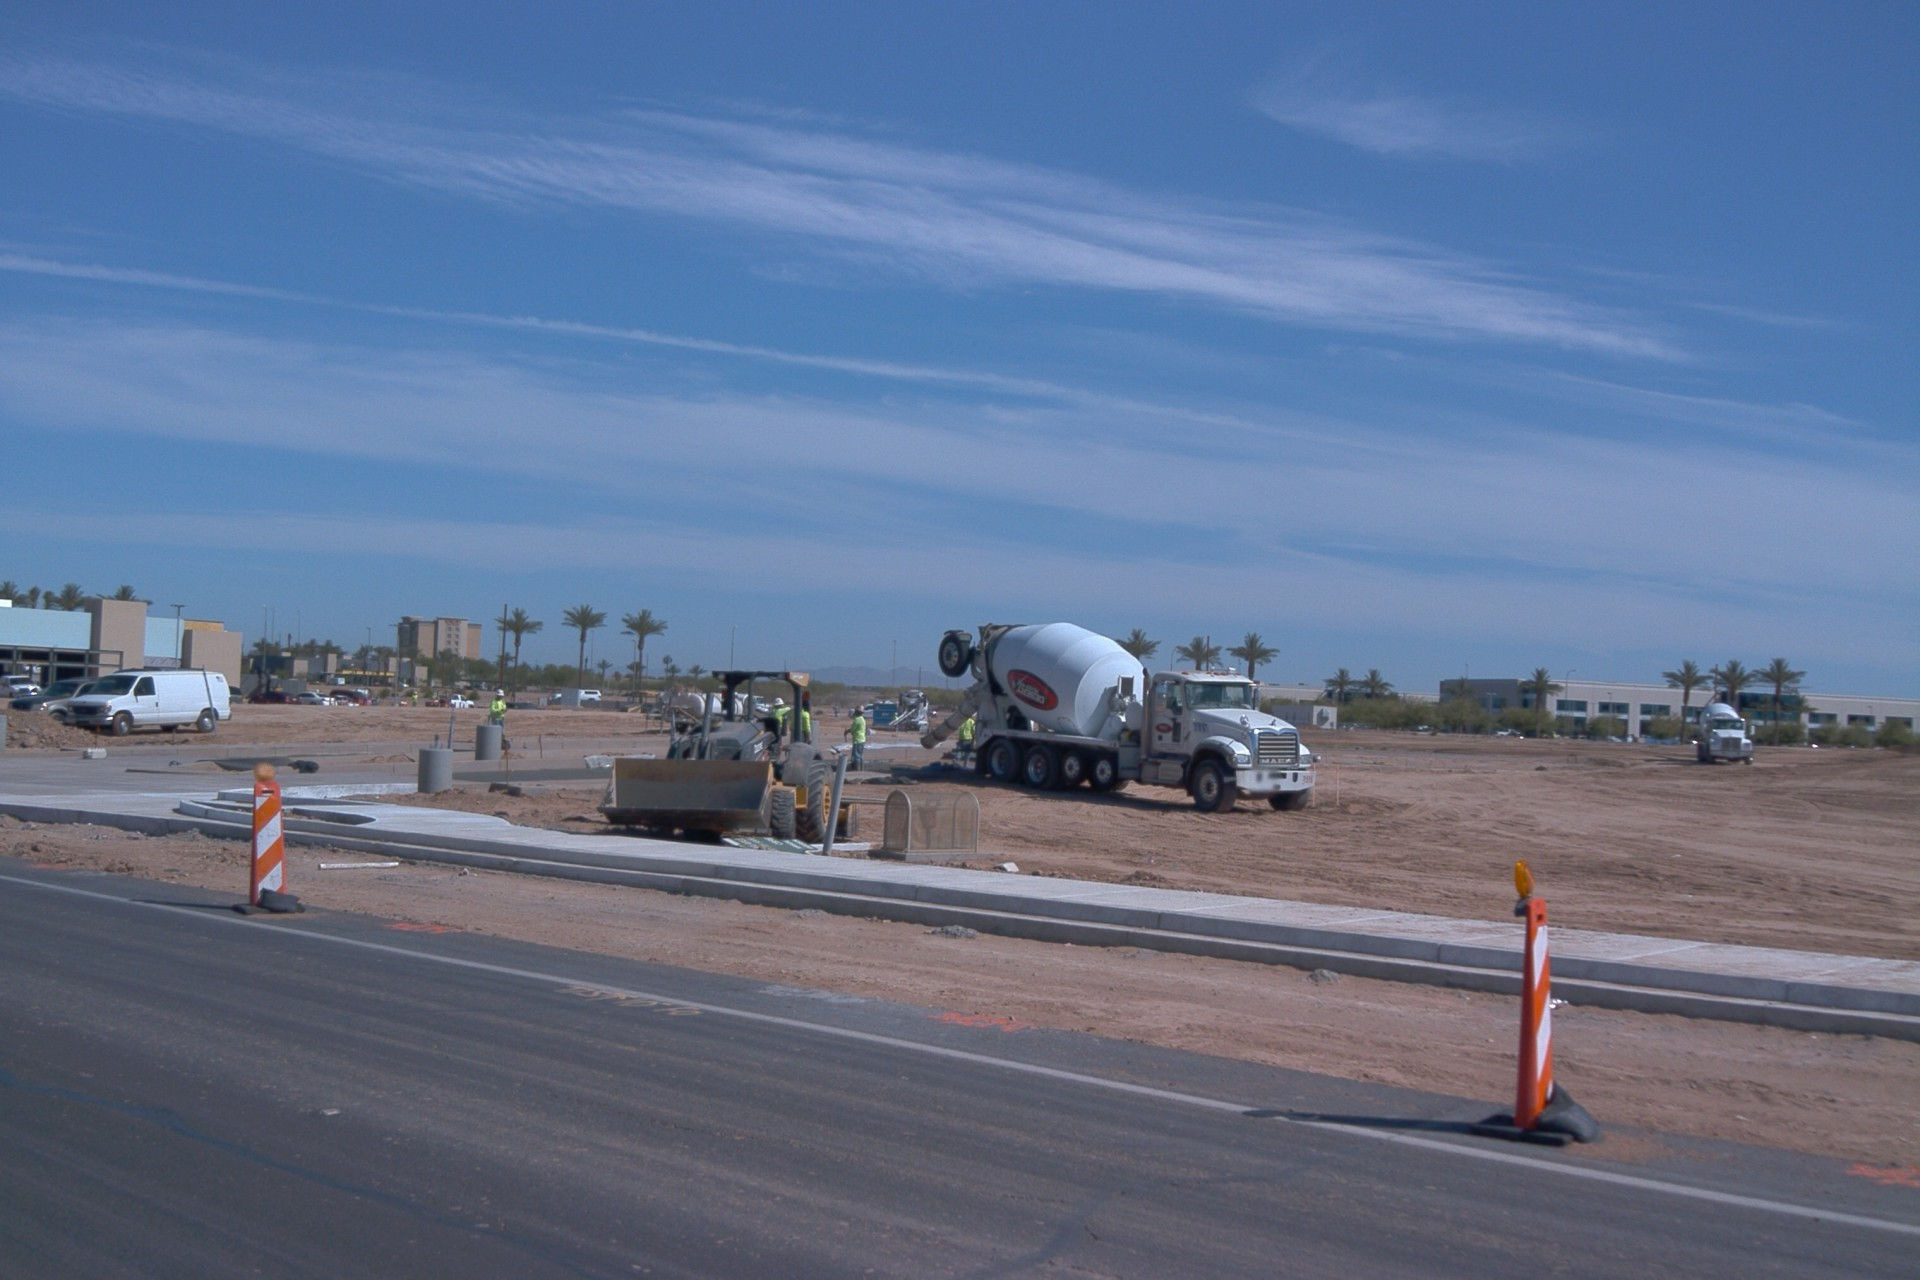TYPE_PEDESTRIAN: (842, 706, 867, 775), (785, 699, 812, 747), (954, 717, 978, 768), (489, 688, 508, 738), (767, 697, 791, 735), (412, 688, 424, 709), (892, 710, 900, 732), (832, 702, 840, 718), (430, 690, 439, 701)
TYPE_VEHICLE: (921, 619, 1321, 809), (596, 660, 867, 852), (63, 666, 234, 735), (5, 676, 99, 725), (1697, 705, 1761, 767), (671, 689, 745, 734), (884, 689, 931, 736), (623, 688, 680, 713), (245, 688, 307, 709), (0, 676, 43, 699), (732, 692, 773, 714), (553, 690, 604, 705), (327, 690, 372, 707), (436, 692, 472, 709), (296, 693, 339, 707), (218, 684, 242, 708), (3, 665, 44, 677), (848, 704, 873, 718), (493, 699, 543, 706), (326, 679, 345, 687)
